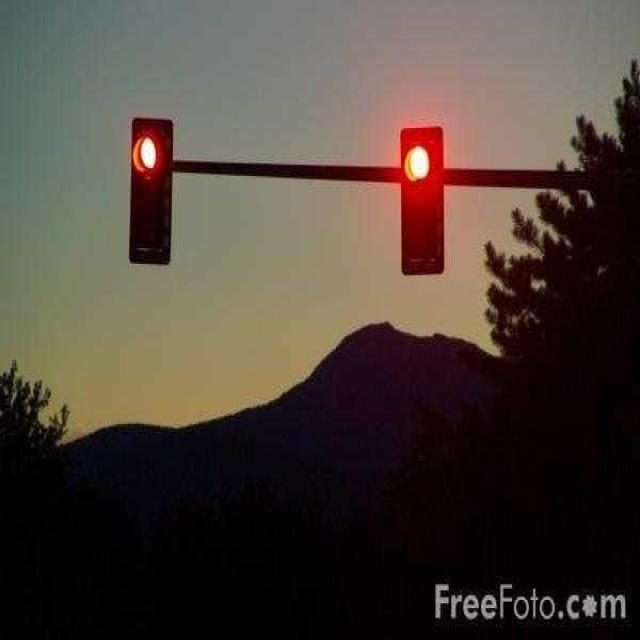Traffic Light -Red-: (123, 110, 176, 266), (396, 124, 448, 262)
